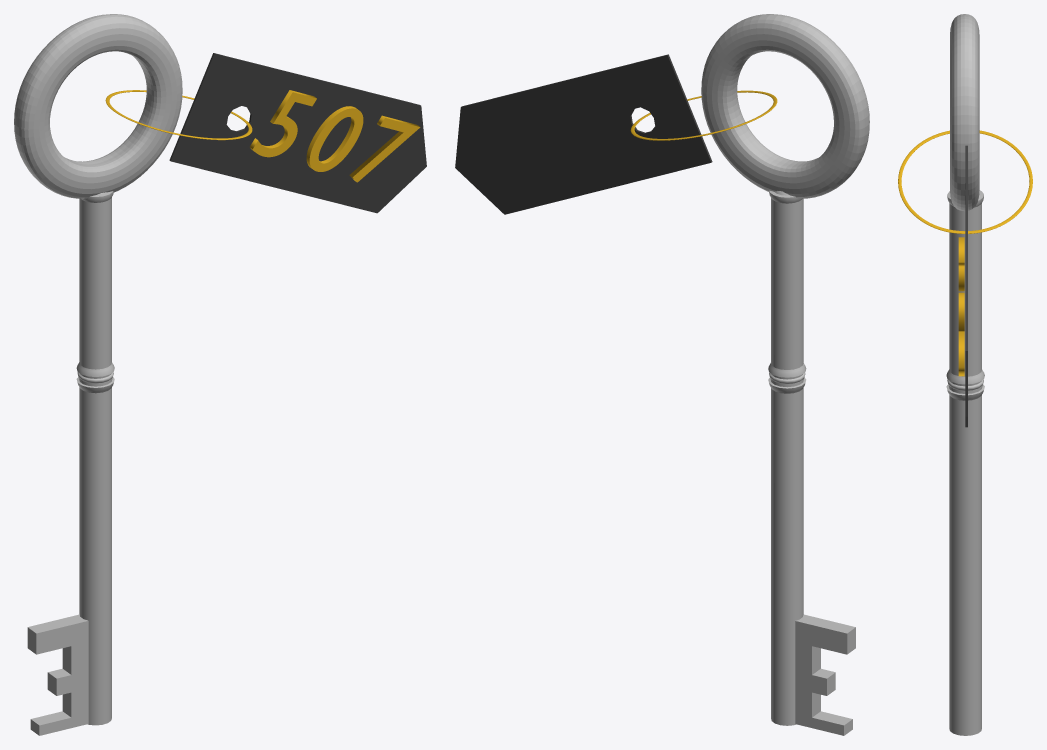
File: key507.fbx
3 renders of one model, left to right at view 1: azimuth 30°, elevation 25°; view 2: azimuth 150°, elevation 25°; view 3: azimuth 270°, elevation 25°, orthographic.
Visible parts, largest first — view 1: key507; view 2: key507; view 3: key507.
Boxes of the visible parts, bbox=[...] form: key507: bbox=[14, 14, 426, 735]; key507: bbox=[455, 14, 869, 735]; key507: bbox=[898, 14, 1032, 735].
Bounding box in the file's own units: 8.68 × 14.18 × 2.45.
